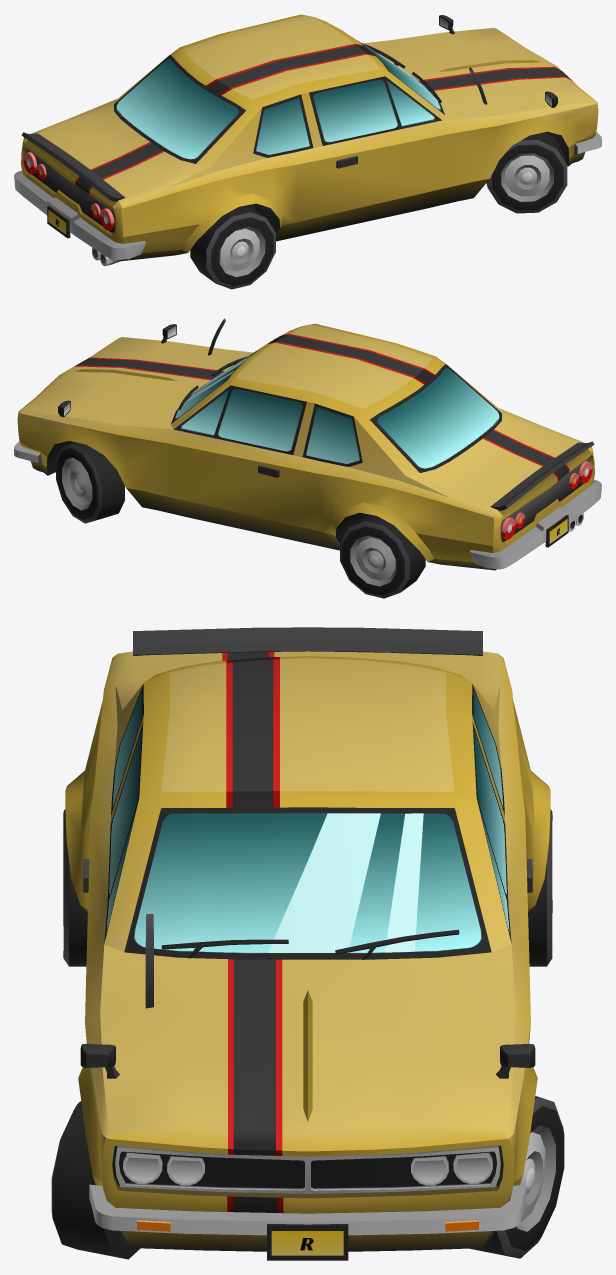
The model's file is Car_066.glb.
The picture shows the model from 3 angles, top to bottom: view 1: azimuth 30°, elevation 25°; view 2: azimuth 150°, elevation 25°; view 3: azimuth 270°, elevation 25°; orthographic projection. The views are drawn at different scales.
Parts seen in each view (by area): view 1: Car_066, wheel_3_Car_066_Wheel_3R, wheel_0_Car_066_Wheel_1R; view 2: Car_066, wheel_2_Car_066_Wheel_3L, wheel_1_Car_066_Wheel_2L; view 3: Car_066, wheel_0_Car_066_Wheel_1R, wheel_1_Car_066_Wheel_2L, wheel_2_Car_066_Wheel_3L, wheel_3_Car_066_Wheel_3R.
Boxes of the visible parts, box(x1,y1,x2,y2) form: Car_066: box(14, 14, 601, 266); wheel_3_Car_066_Wheel_3R: box(190, 205, 275, 289); wheel_0_Car_066_Wheel_1R: box(486, 132, 567, 213); Car_066: box(14, 318, 601, 570); wheel_2_Car_066_Wheel_3L: box(340, 514, 425, 598); wheel_1_Car_066_Wheel_2L: box(56, 442, 124, 523); Car_066: box(65, 627, 550, 1260); wheel_0_Car_066_Wheel_1R: box(51, 1101, 140, 1259); wheel_1_Car_066_Wheel_2L: box(470, 1096, 564, 1258); wheel_2_Car_066_Wheel_3L: box(528, 809, 552, 966); wheel_3_Car_066_Wheel_3R: box(63, 809, 87, 966).
Bounding box in the file's own units: 5.23 × 1.67 × 2.31.
1 material, 1 textured.
